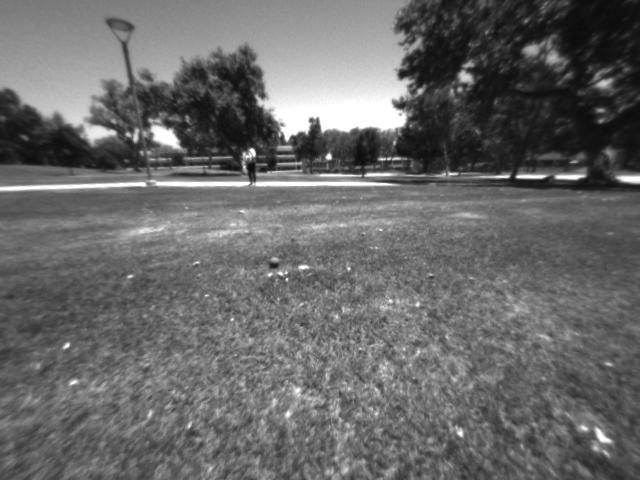dogtoy: (262, 252, 287, 272)
